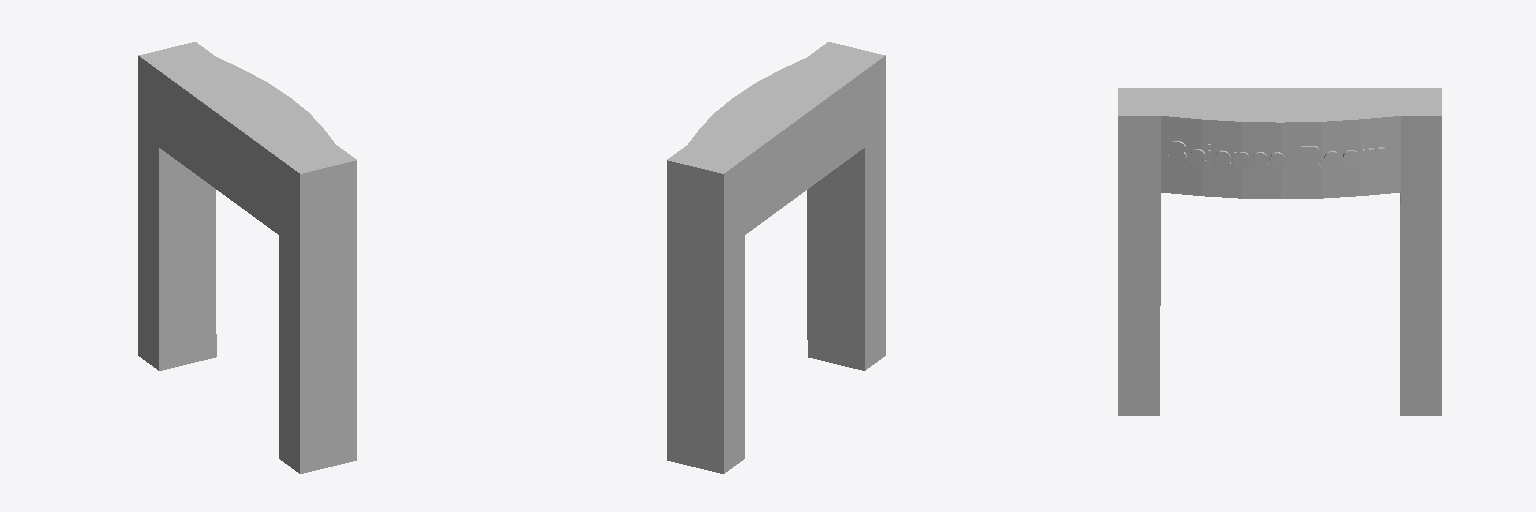
The model's file is ScienceRoomDoorOutline.obj.
The picture shows the model from 3 angles: view 1: azimuth 30°, elevation 25°; view 2: azimuth 150°, elevation 25°; view 3: azimuth 270°, elevation 25°; orthographic projection.
Visible parts, largest first — view 1: Box017; view 2: Box017; view 3: Box017.
Part boxes in pixels (left/top/right/bottom): Box017: left=138, top=42, right=356, bottom=473; Box017: left=667, top=42, right=885, bottom=473; Box017: left=1118, top=88, right=1441, bottom=415.
Bounding box in the file's own units: 117 × 459 × 448.